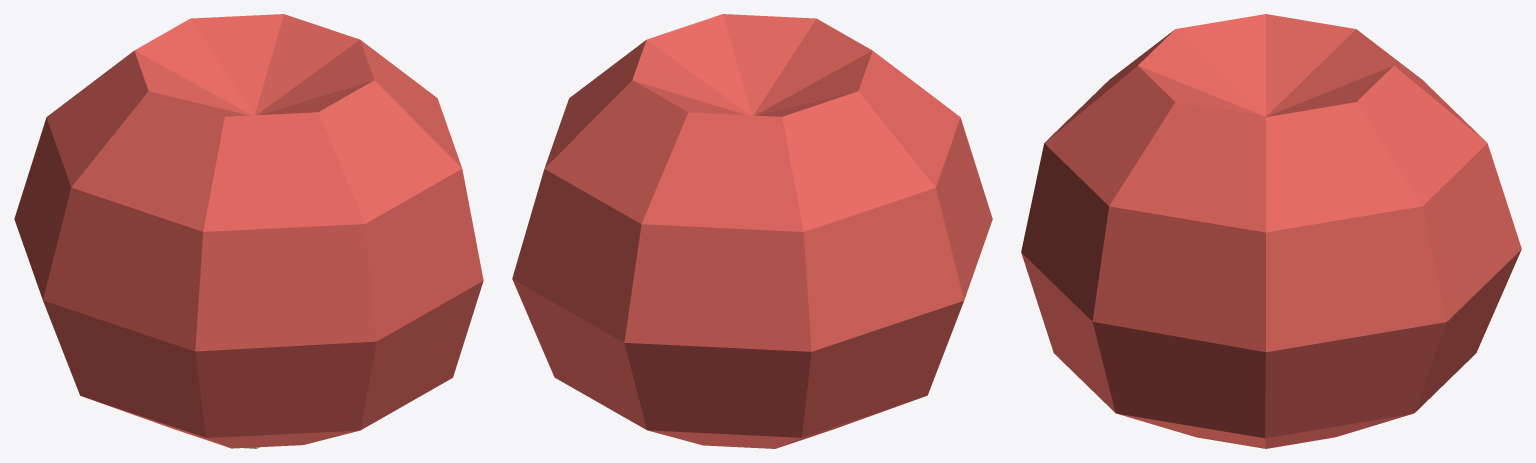
File: apple.fbx
3 renders of one model, left to right at view 1: azimuth 30°, elevation 25°; view 2: azimuth 150°, elevation 25°; view 3: azimuth 270°, elevation 25°, orthographic.
Visible parts, largest first — view 1: apple; view 2: apple; view 3: apple.
Part boxes in pixels (left/top/right/bottom): apple: left=14, top=14, right=483, bottom=448; apple: left=512, top=14, right=992, bottom=448; apple: left=1021, top=14, right=1521, bottom=448.
Bounding box in the file's own units: 0.545 × 0.4609 × 0.5587.
